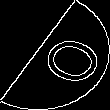O_NW: (15, 24, 95, 86)
